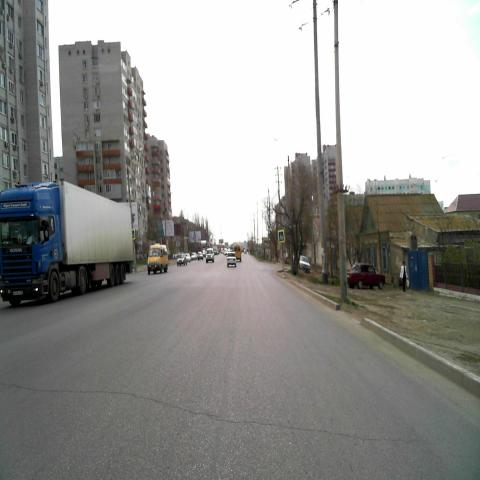5_19_1: (278, 230, 284, 243), (132, 229, 136, 239)
